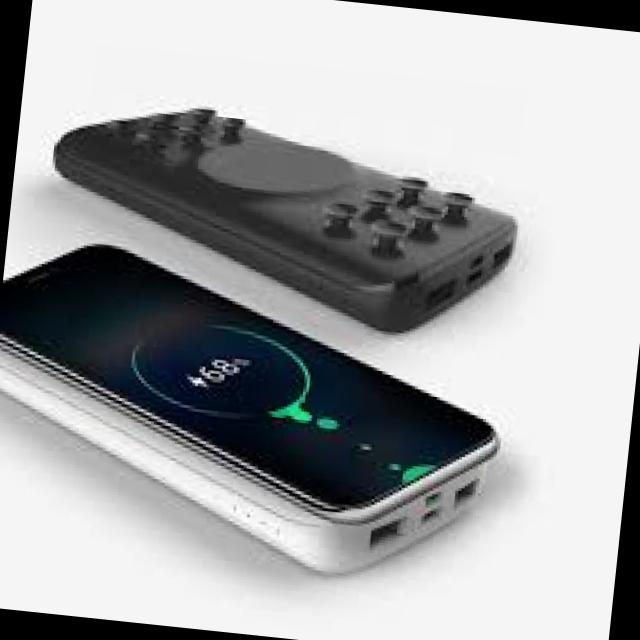portable-charger: (43, 88, 524, 346), (0, 347, 504, 593)
